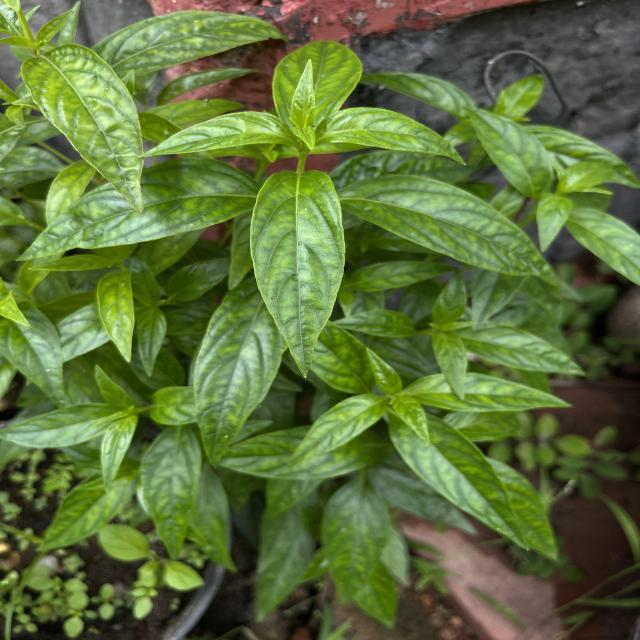Andrographis paniculata: (341, 169, 564, 289), (13, 157, 256, 264), (19, 41, 149, 214), (247, 167, 349, 381), (387, 416, 537, 557), (192, 273, 280, 464), (95, 8, 282, 75), (461, 102, 559, 202), (317, 104, 468, 166), (284, 392, 406, 467), (138, 424, 204, 561), (318, 477, 389, 603), (135, 108, 293, 160), (272, 36, 364, 120), (457, 322, 588, 378), (420, 371, 576, 418), (0, 400, 120, 450), (369, 68, 476, 120), (96, 268, 138, 364)
